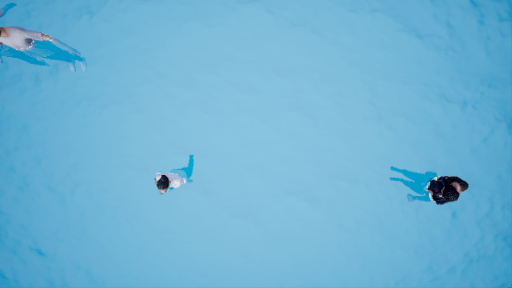person: (1, 22, 90, 78), (382, 165, 471, 207), (151, 159, 197, 195)
